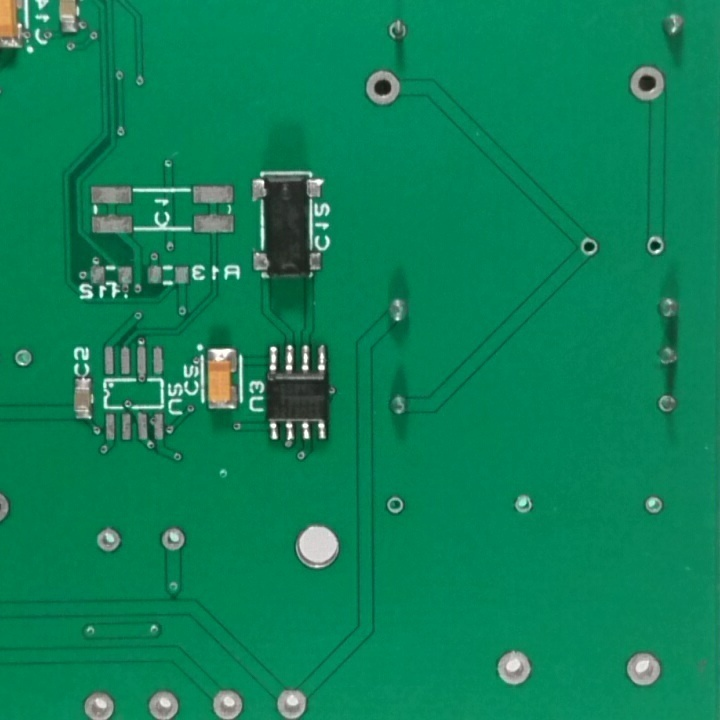F: (621, 647, 668, 690), (627, 63, 668, 107), (491, 646, 533, 688), (361, 66, 402, 108), (143, 683, 184, 720), (207, 685, 250, 720), (273, 684, 312, 720), (79, 686, 119, 720), (159, 525, 190, 558), (94, 526, 123, 559), (509, 491, 538, 520), (384, 15, 410, 45), (652, 389, 681, 415), (579, 233, 601, 264), (9, 346, 35, 371), (641, 491, 667, 515), (642, 233, 665, 259), (382, 494, 406, 518)
